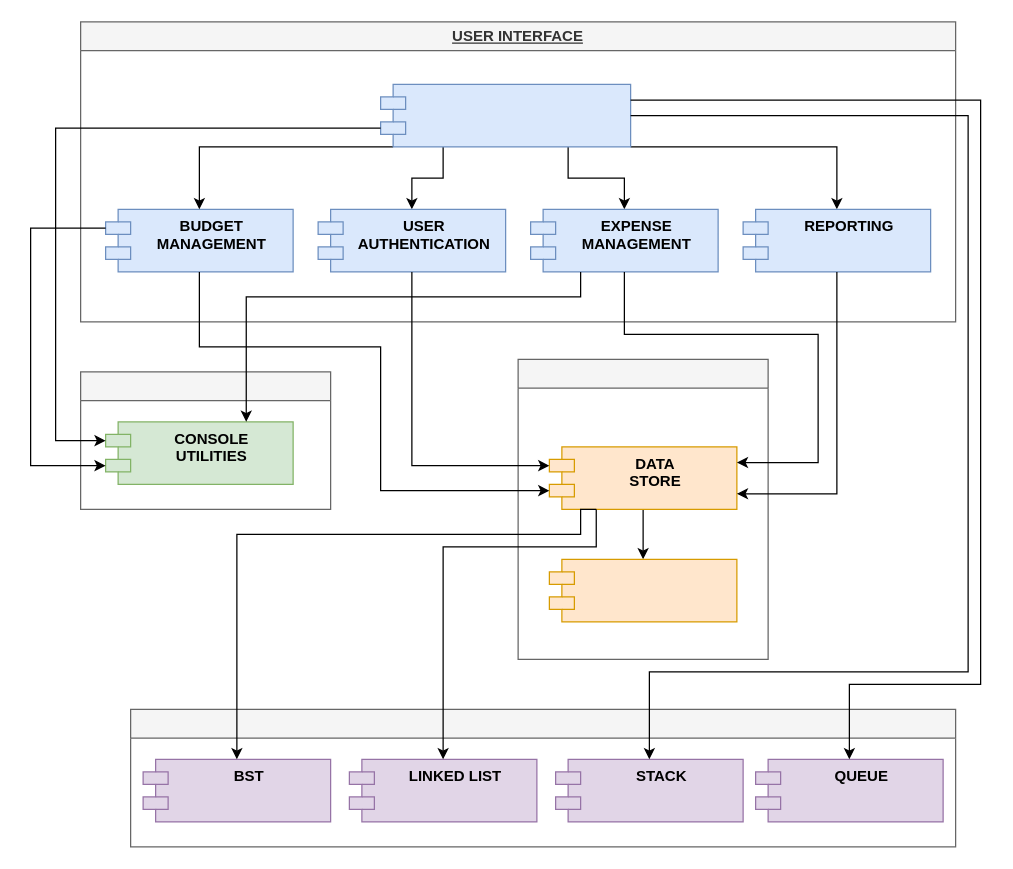
The diagram is 1013 pixels wide and 869 high, and some of its shapes have lost their labels. Each missing label, with the box of its shape:
CORE COMPONENTS: (517, 358, 768, 659)
DATA STRUCTURES: (129, 708, 956, 847)
MAIN INTERFACE: (379, 83, 631, 147)
MODELS: (548, 558, 737, 622)
UTILITY: (79, 371, 331, 509)
